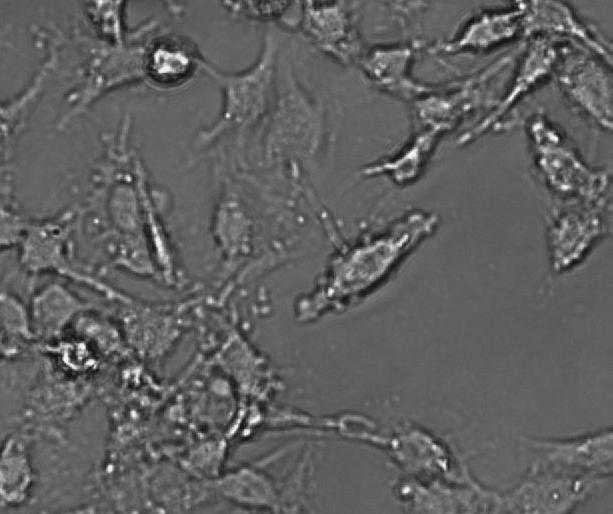Dead: (34, 325, 110, 379), (141, 33, 206, 90)
